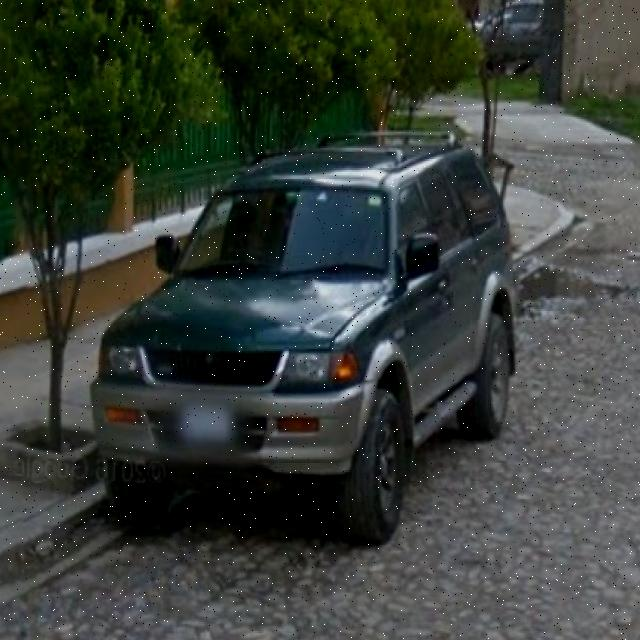car: (98, 131, 516, 545)
